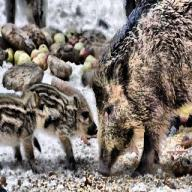boar: (89, 0, 191, 178)
